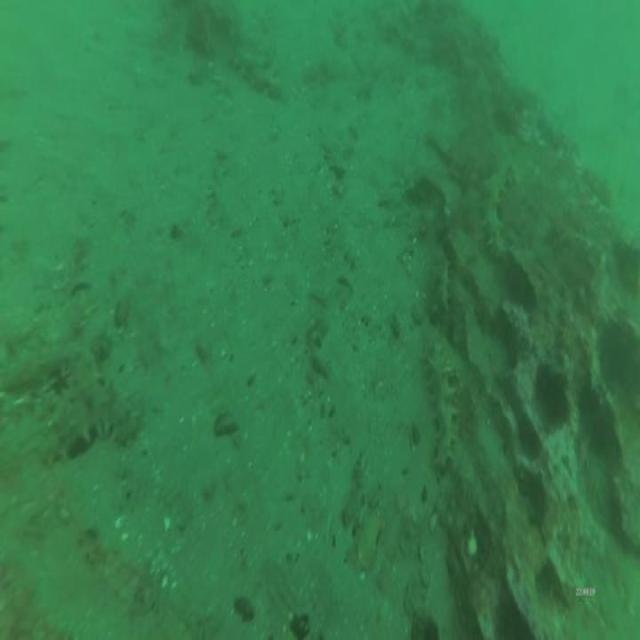holothurian: (39, 385, 144, 471), (2, 338, 108, 403), (423, 337, 465, 477), (228, 39, 286, 106), (478, 157, 510, 267), (430, 247, 457, 326)
